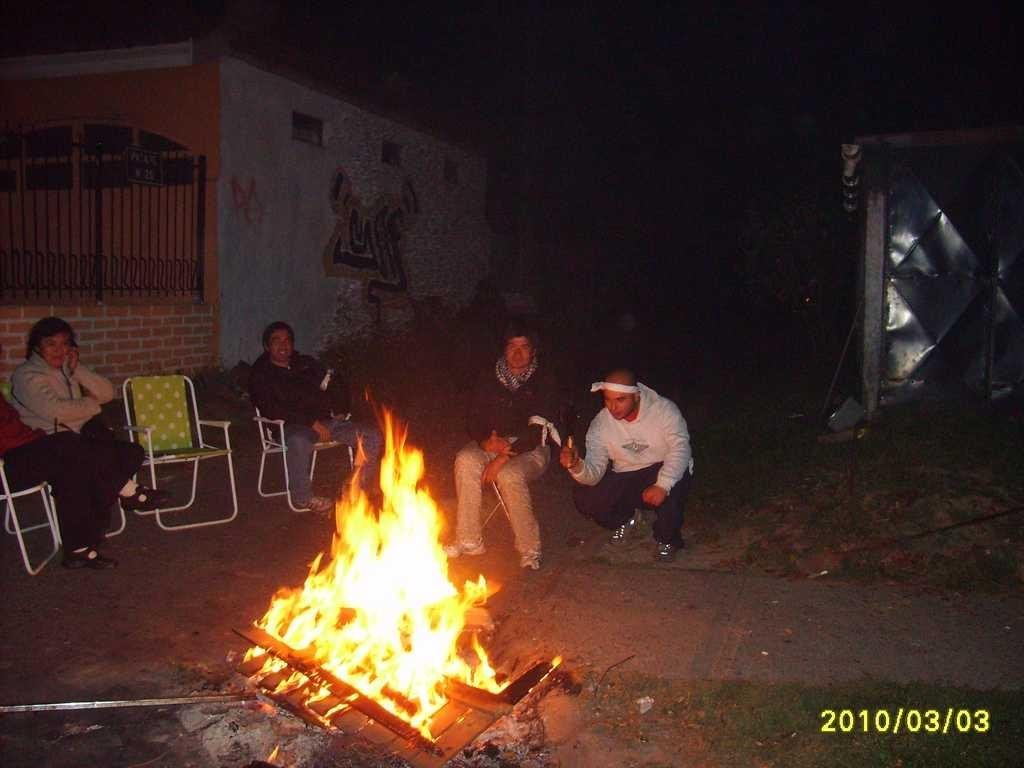fire: (330, 528, 442, 683)
